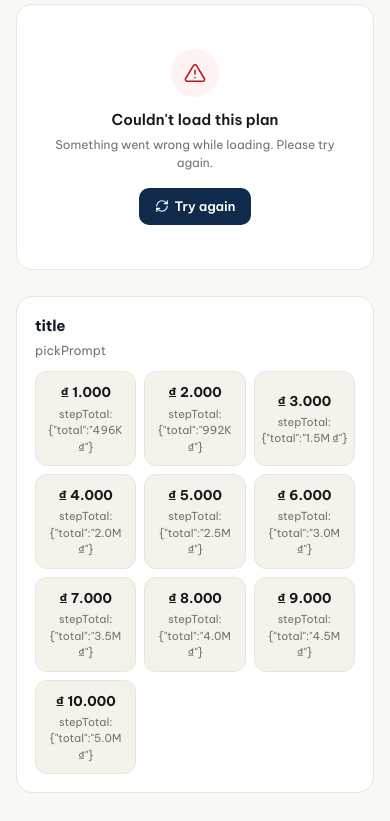
PlanningClient — error vs empty on plan fetch › retry refetches and renders the plan once the request succeeds
The image size is (390, 821).
Step 1. Click the button "Try again" → (195, 206), box x1=138 y1=188 x2=251 y2=225
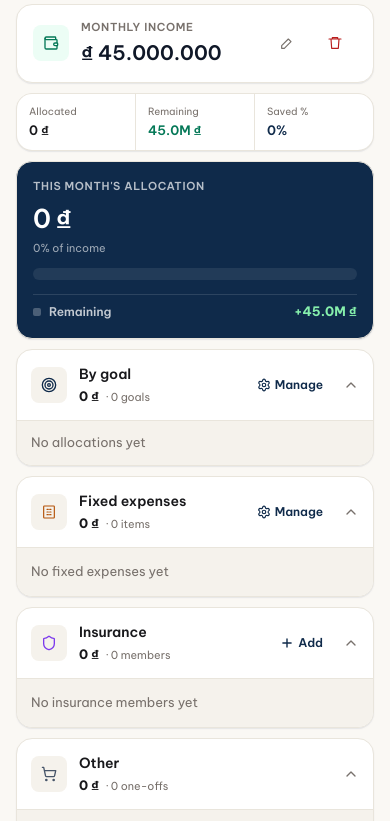
Check: the element with test id "planning-error-state" is gone
Check: the button named "Edit income" is shown, box x1=265 y1=21 x2=309 y2=65
